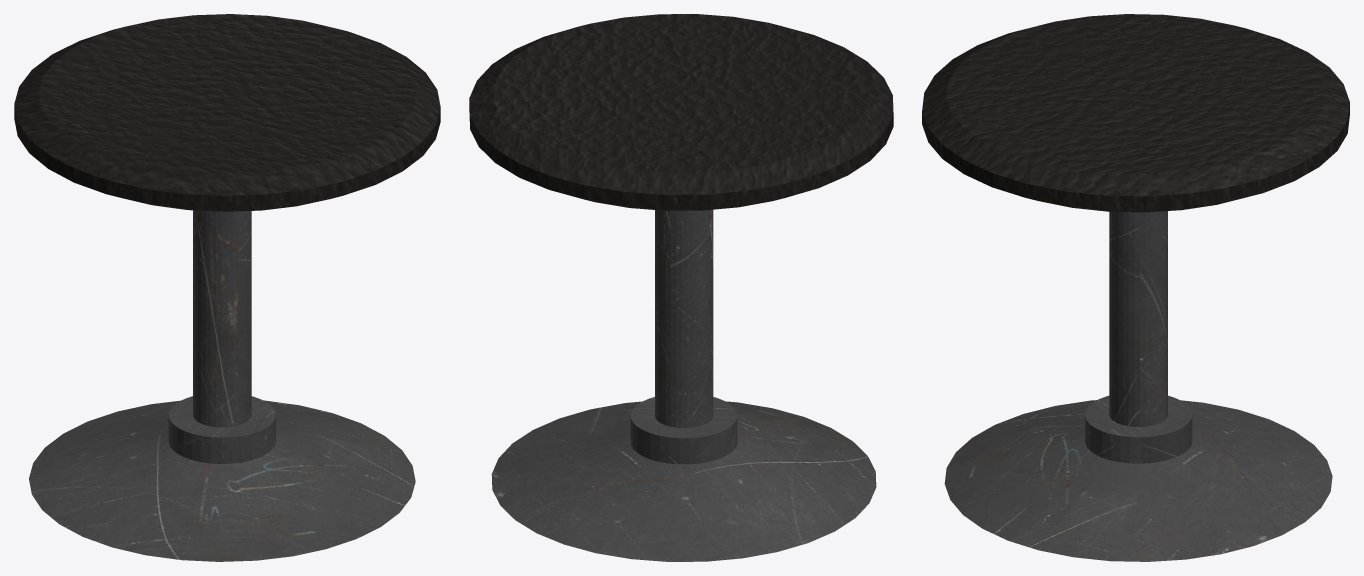
Rendered from silla1Cuero.fbx.
3 views of the same model, side by side, from view 1: azimuth 30°, elevation 25°; view 2: azimuth 150°, elevation 25°; view 3: azimuth 270°, elevation 25° (orthographic).
Parts seen in each view (by area): view 1: Circle.001; view 2: Circle.001; view 3: Circle.001.
Part boxes in pixels (<box>): Circle.001: <box>14,14,440,561</box>; Circle.001: <box>469,14,893,561</box>; Circle.001: <box>922,14,1349,561</box>.
Bounding box in the file's own units: 114 × 115 × 114.
Materials: 2 (2 with a texture image).
